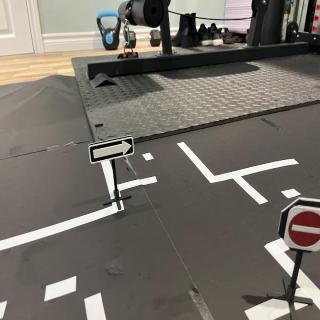sign_noentry: (283, 206, 320, 256)
sign_oneway_right: (89, 134, 137, 165)
